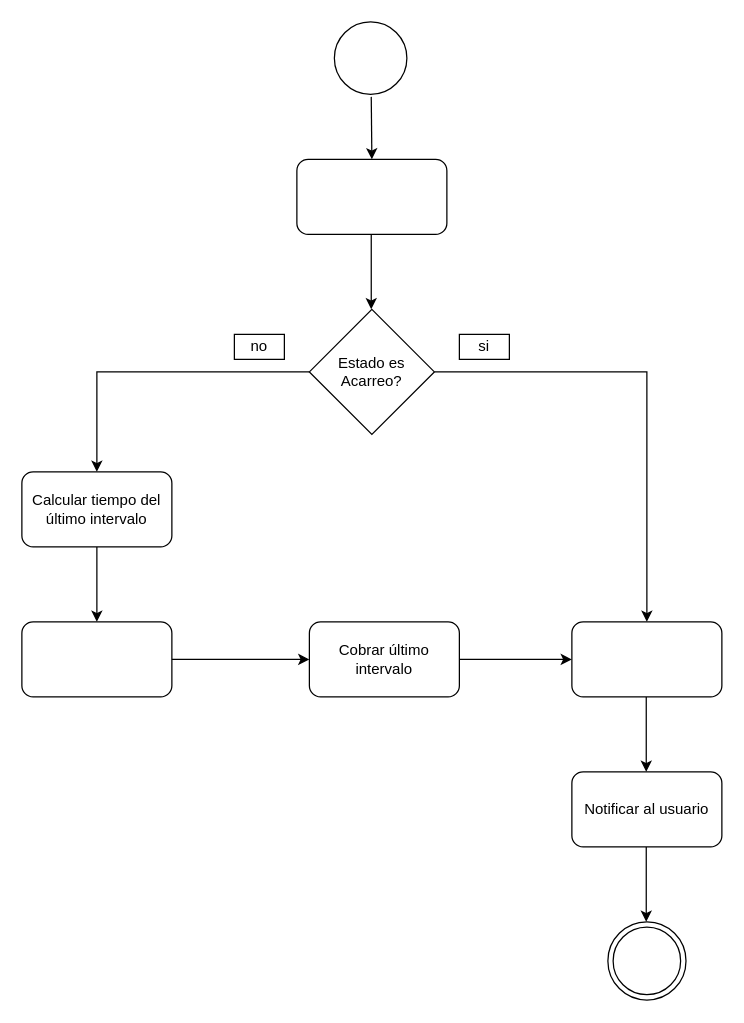
This 744x1023 diagram has some shape labels left out. The centre of each missing label's shape, as x and y in pixels:
Calcular monto a cobrar del último intervalo: point 96,659
Recibir FIN DE SESIÖN: point 371,196
Registrar sesión finalizada: point 646,659
